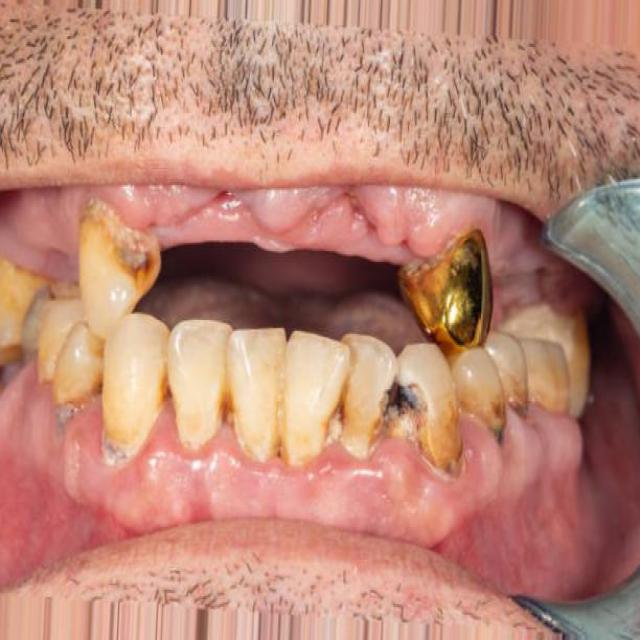caries: (362, 370, 438, 469), (116, 241, 158, 296)
